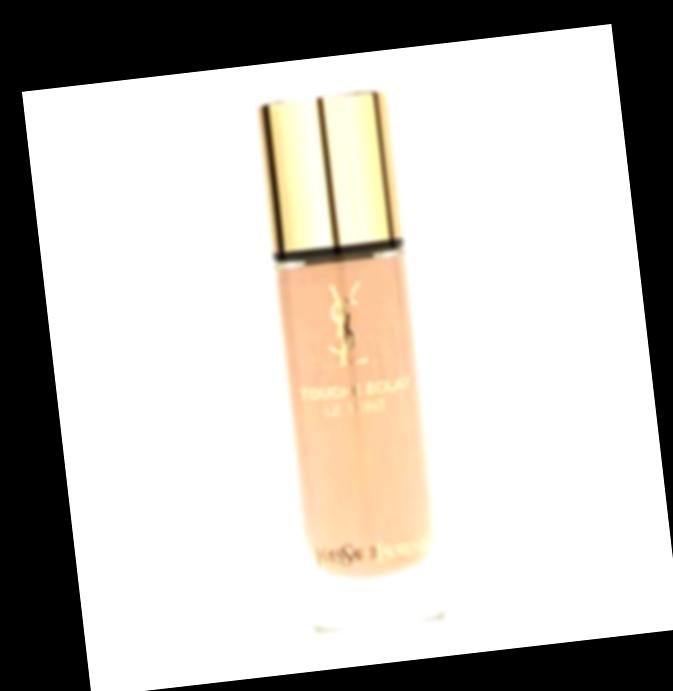cosmetic: (251, 84, 455, 645)
